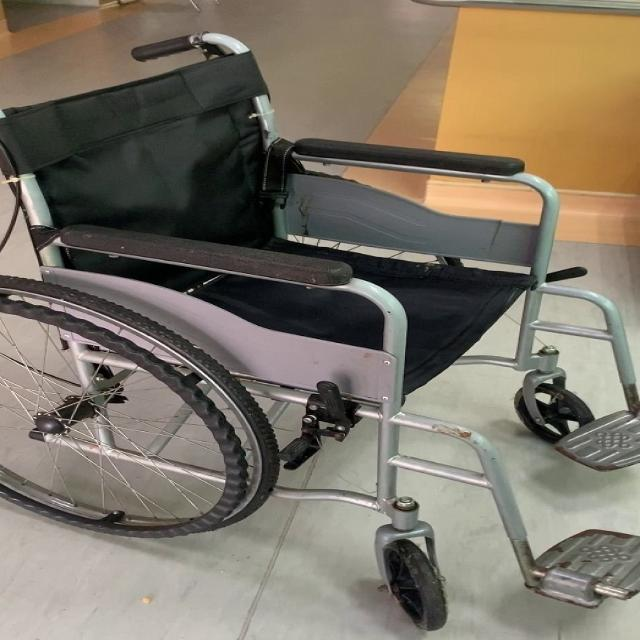wheelchair: (4, 21, 640, 640)
